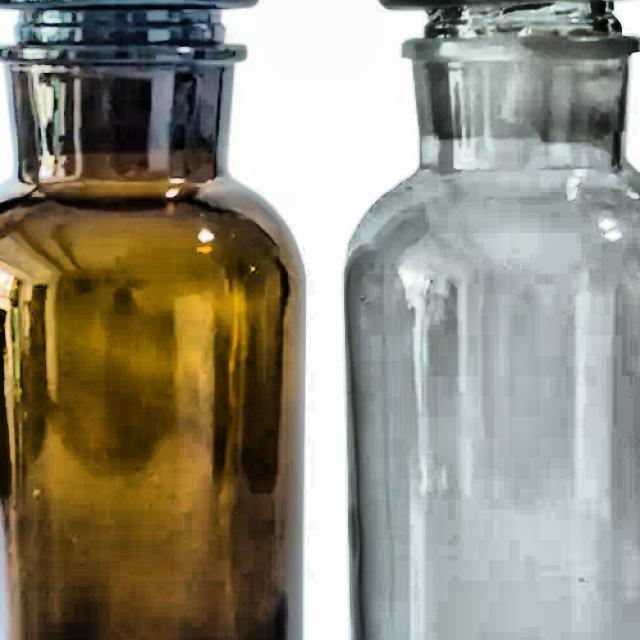glass: (340, 0, 640, 640)
